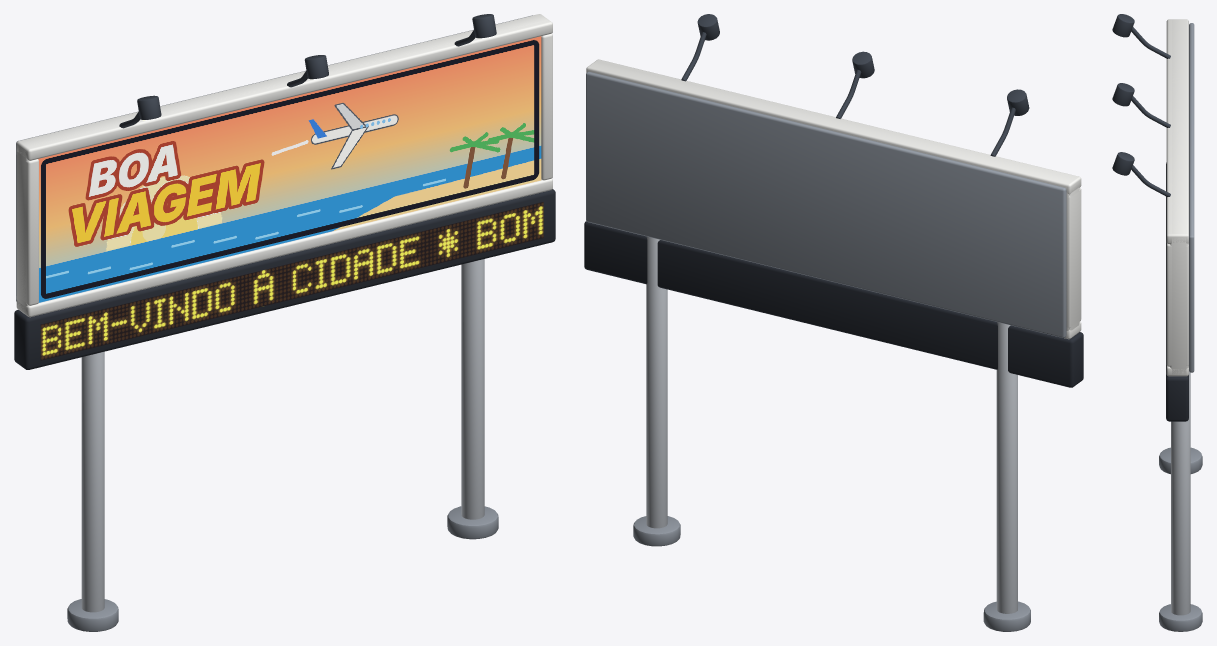
The model's file is outdoor_led_viagem.glb.
3 renders of one model, left to right at view 1: azimuth 30°, elevation 25°; view 2: azimuth 150°, elevation 25°; view 3: azimuth 270°, elevation 25°, orthographic. The views are drawn at different scales.
Parts seen in each view (by area): view 1: outdoor_led_viagem, led_rolante; view 2: outdoor_led_viagem; view 3: outdoor_led_viagem.
Boxes of the visible parts, left/top/right/bottom form: outdoor_led_viagem: left=14, top=14, right=555, bottom=631; led_rolante: left=40, top=202, right=543, bottom=360; outdoor_led_viagem: left=584, top=14, right=1083, bottom=631; outdoor_led_viagem: left=1112, top=14, right=1202, bottom=631.
Size of the model in its own units: 9.5 by 9.32 by 1.66.
4 materials, 3 textured.
